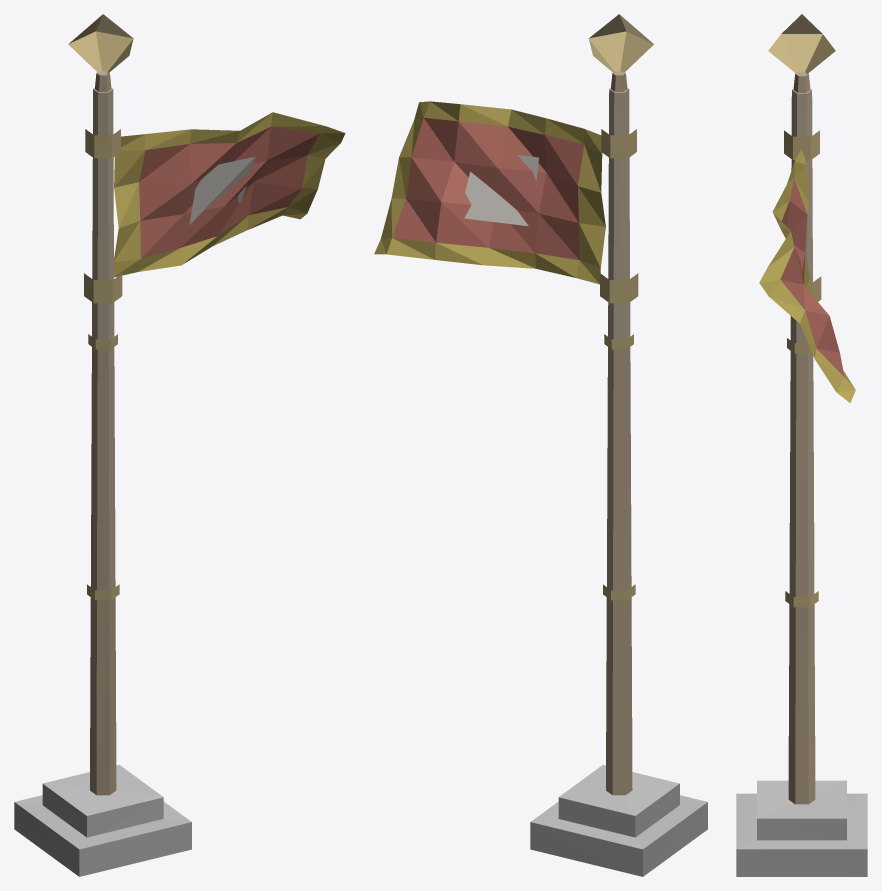
The model's file is flag.rect.chizhi__pole.ground.gaogan__masthead.glb.
3 renders of one model, left to right at view 1: azimuth 30°, elevation 25°; view 2: azimuth 150°, elevation 25°; view 3: azimuth 270°, elevation 25°, orthographic.
Parts seen in each view (by area): view 1: flag.rect.chizhi; view 2: flag.rect.chizhi; view 3: flag.rect.chizhi.
Part boxes in pixels (x1,y1,x2,y2): flag.rect.chizhi: [14, 14, 345, 876]; flag.rect.chizhi: [374, 14, 707, 876]; flag.rect.chizhi: [736, 14, 867, 876].
Bounding box in the file's own units: 2.01 × 5.72 × 0.816.
